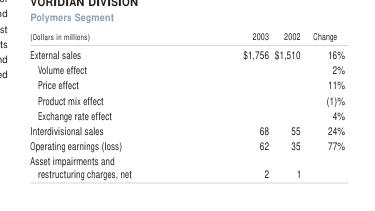table: (29, 29, 344, 180)
table column: (29, 29, 186, 180), (186, 29, 270, 180), (306, 29, 344, 180), (270, 29, 306, 180)
table column header: (29, 29, 344, 44)
table row: (29, 152, 344, 180), (29, 44, 344, 61), (29, 106, 344, 122), (29, 29, 344, 44), (29, 61, 344, 76), (29, 76, 344, 91), (29, 91, 344, 106), (29, 122, 344, 137), (29, 137, 344, 152)
